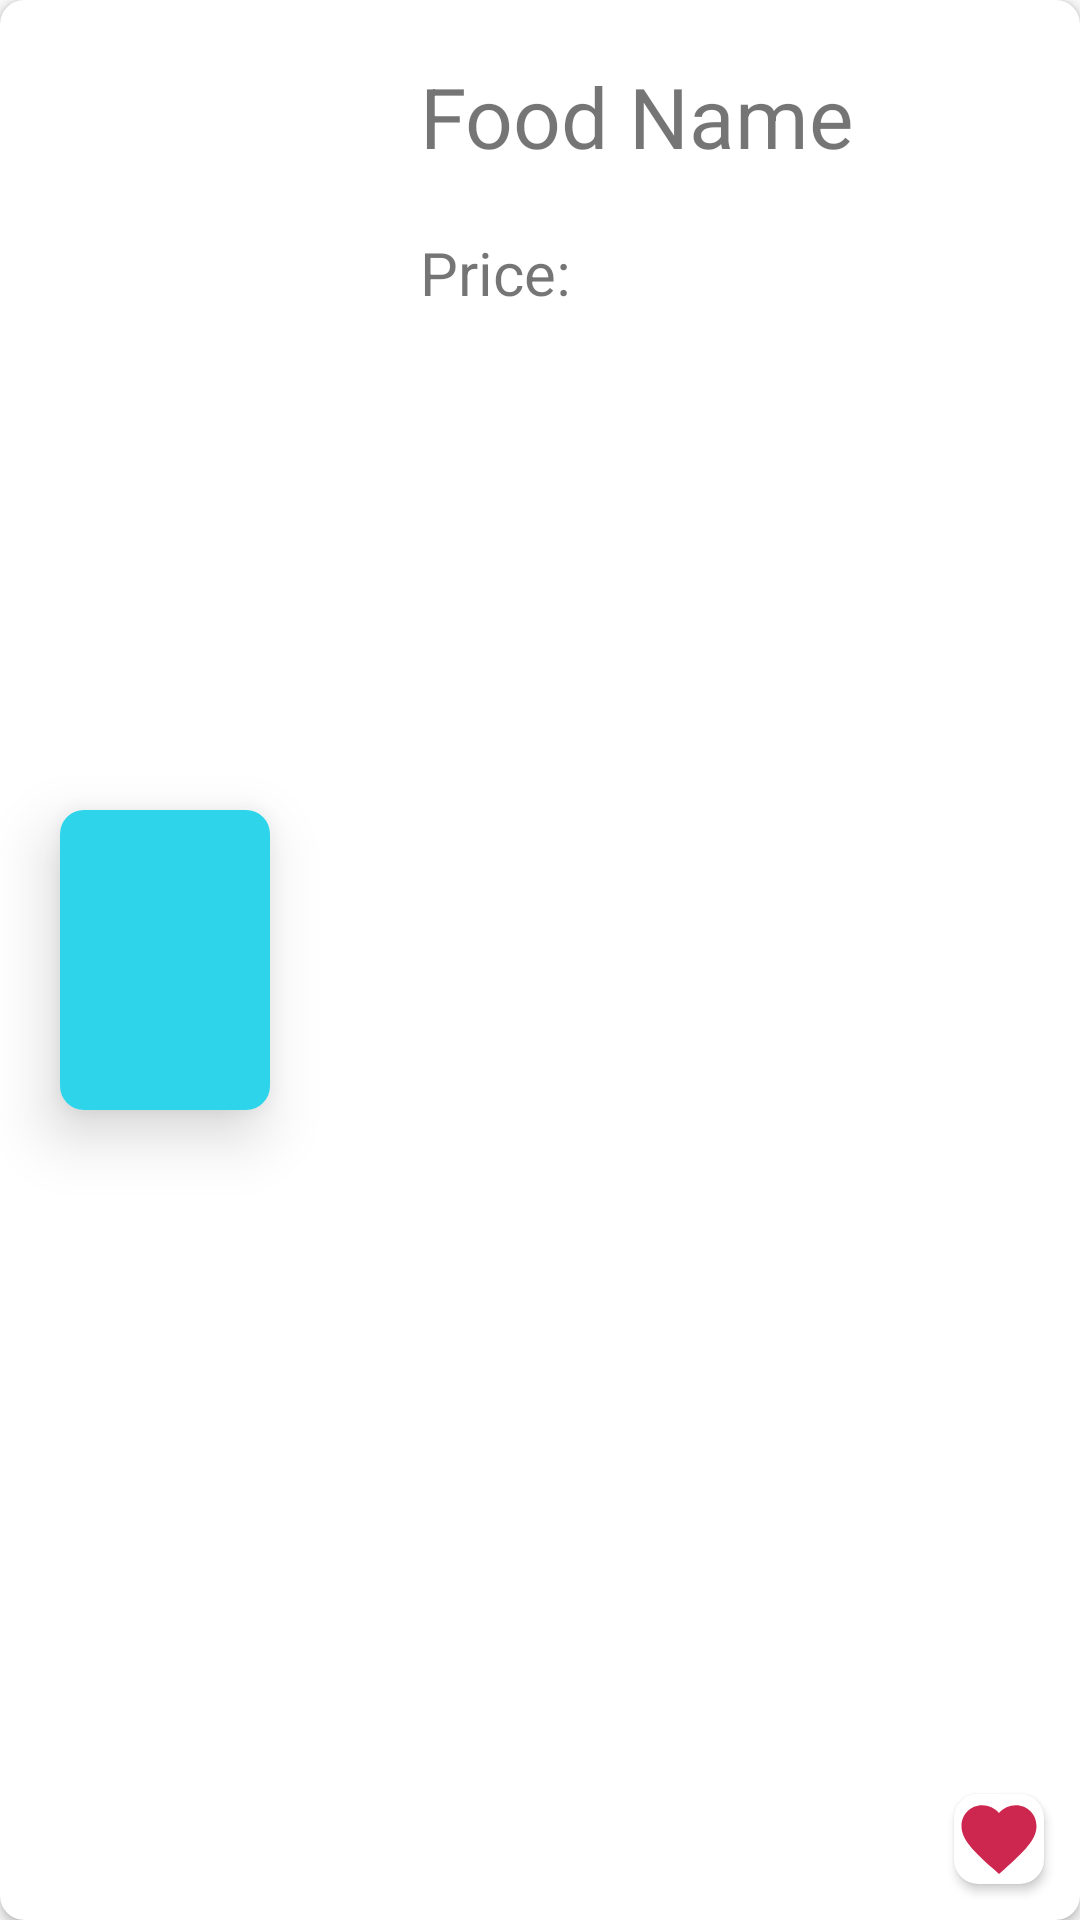

Screen size 1080×1920. Icon name, then its center in pixels as point (x, y):
favorite: point (999, 1839)
